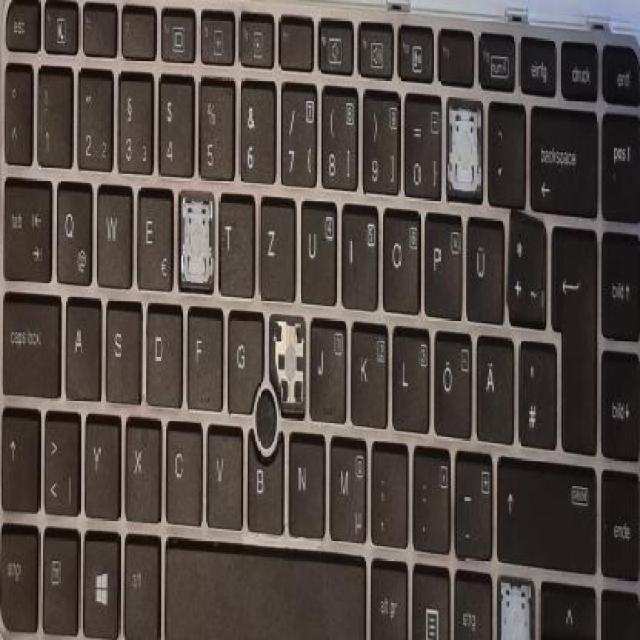Keyboard problems: (441, 84, 485, 211), (267, 307, 311, 424), (178, 184, 222, 298), (495, 570, 544, 640)
